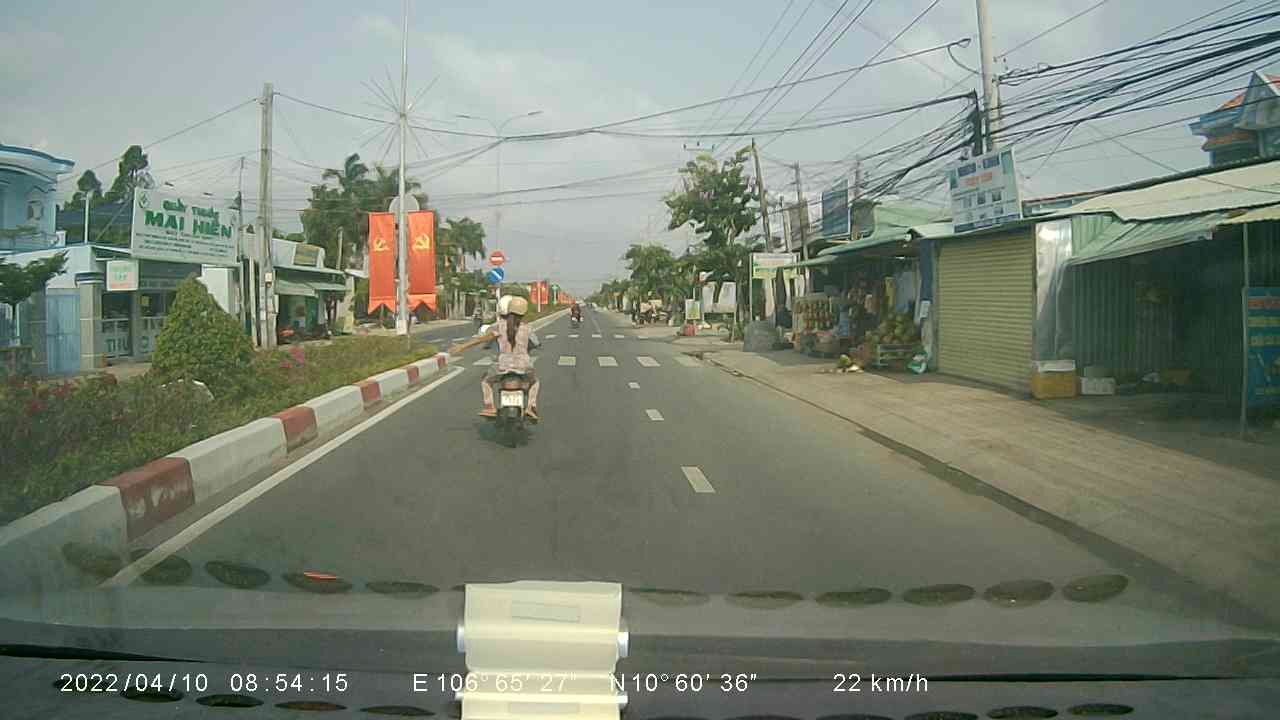Cam di nguoc chieu: (487, 247, 506, 267)
Huong di phai re phai: (486, 267, 503, 284)
